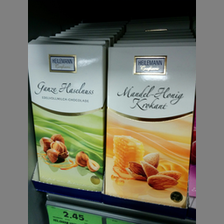chocolate: (104, 44, 195, 207), (28, 40, 105, 190)
